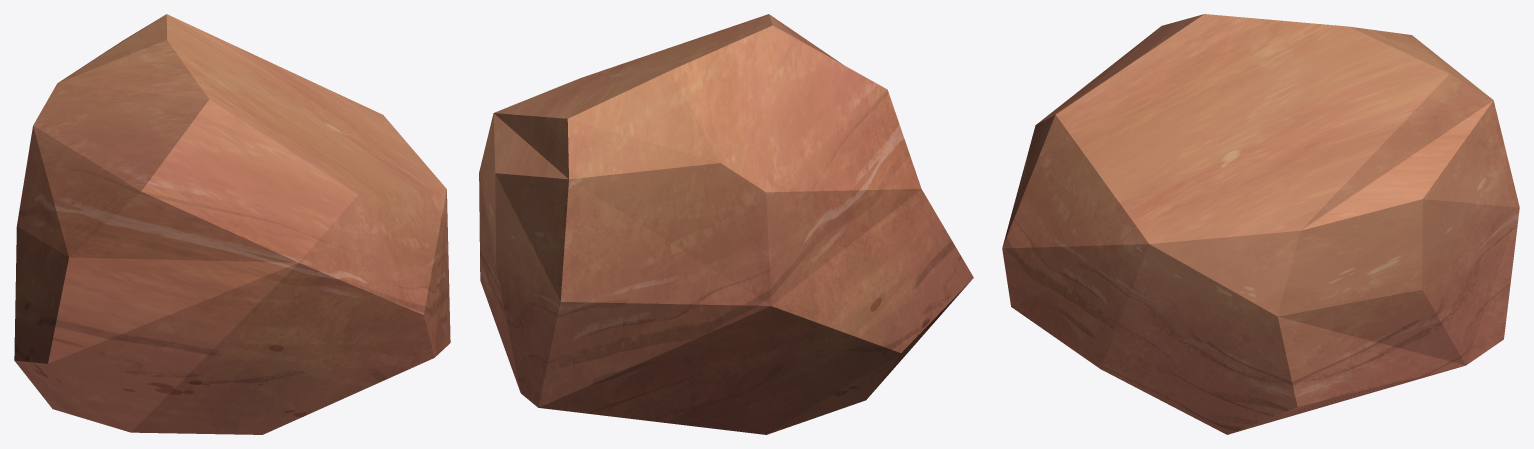
Rendered from rock_2_015.fbx.
3 views of the same model, side by side, from view 1: azimuth 30°, elevation 25°; view 2: azimuth 150°, elevation 25°; view 3: azimuth 270°, elevation 25° (orthographic). The views are drawn at different scales.
Visible parts, largest first — view 1: rock 2.015; view 2: rock 2.015; view 3: rock 2.015.
Part boxes in pixels (x1,y1,x2,y2): rock 2.015: [14, 14, 450, 434]; rock 2.015: [479, 14, 973, 434]; rock 2.015: [1002, 14, 1519, 434].
Bounding box in the file's own units: 148 × 119 × 153.
